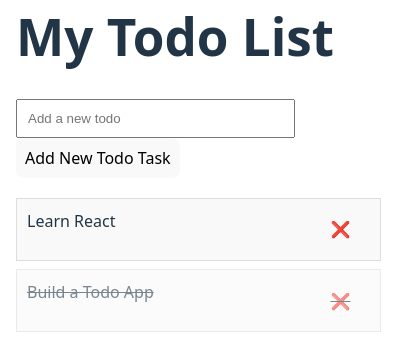
removes a todo item
Step 1. Click the button "❌" in the row of "Learn React" → (340, 229), box [311, 209, 370, 250]
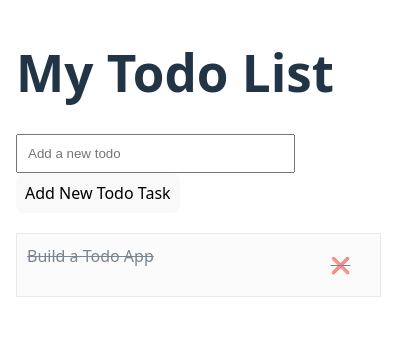
Expected: the text "Learn React" is gone
